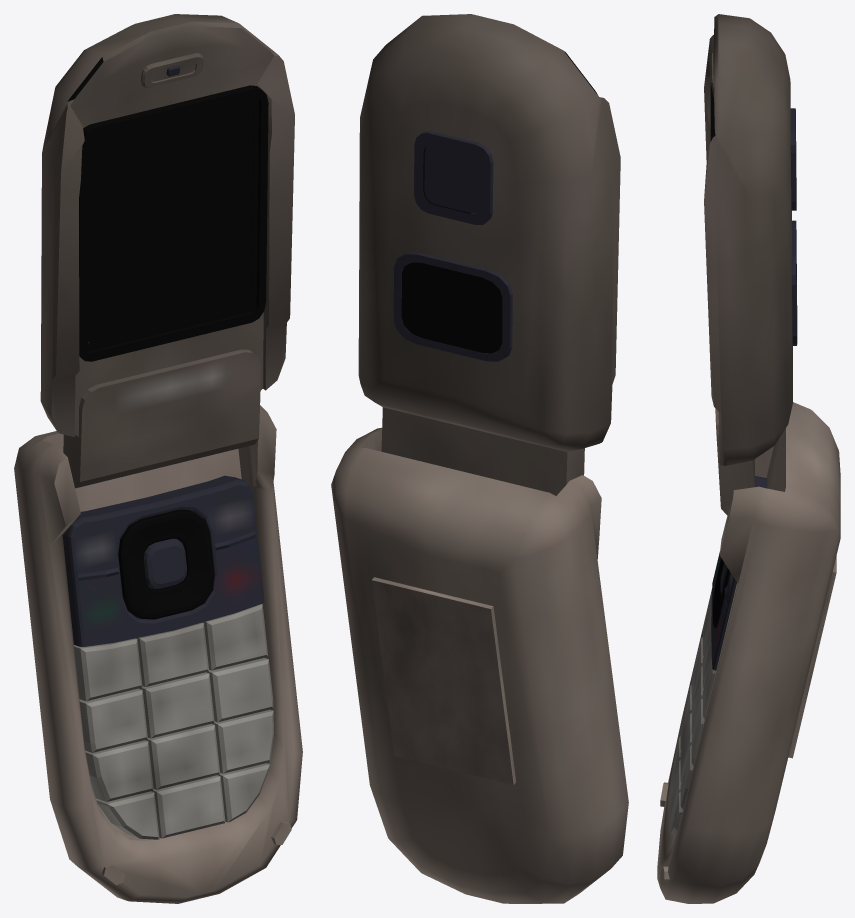
The model's file is Nokia_Baked.fbx.
The picture shows the model from 3 angles, left to right: view 1: azimuth 30°, elevation 25°; view 2: azimuth 150°, elevation 25°; view 3: azimuth 270°, elevation 25°; orthographic projection. The views are drawn at different scales.
Parts seen in each view (by area): view 1: Nokia 1, Nokia 12, Nokia 11, Nokia 10, Nokia 18, Nokia 2, Nokia 13, Nokia 6, Nokia 17, Nokia 8, Nokia 7; view 2: Nokia 1, Nokia 12, Nokia 19, Nokia 18, Nokia 5, Nokia 3, Nokia 9; view 3: Nokia 1, Nokia 12, Nokia 11, Nokia 18, Nokia 2, Nokia 19, Nokia 9, Nokia 3, Nokia 6.
Part boxes in pixels (bbox=[...]): Nokia 1: bbox=[14, 405, 302, 903]; Nokia 12: bbox=[40, 14, 294, 437]; Nokia 11: bbox=[74, 604, 273, 839]; Nokia 10: bbox=[88, 103, 253, 343]; Nokia 18: bbox=[63, 349, 261, 488]; Nokia 2: bbox=[62, 475, 264, 646]; Nokia 13: bbox=[79, 85, 268, 361]; Nokia 6: bbox=[118, 509, 214, 619]; Nokia 17: bbox=[85, 97, 258, 351]; Nokia 8: bbox=[143, 538, 187, 588]; Nokia 7: bbox=[141, 53, 203, 87]; Nokia 1: bbox=[331, 427, 628, 903]; Nokia 12: bbox=[358, 14, 620, 451]; Nokia 19: bbox=[371, 577, 515, 784]; Nokia 18: bbox=[381, 407, 584, 495]; Nokia 5: bbox=[401, 262, 502, 353]; Nokia 3: bbox=[414, 131, 493, 224]; Nokia 9: bbox=[393, 252, 512, 361]; Nokia 1: bbox=[657, 402, 840, 903]; Nokia 12: bbox=[704, 14, 792, 465]; Nokia 11: bbox=[670, 593, 716, 836]; Nokia 18: bbox=[715, 408, 754, 515]; Nokia 2: bbox=[711, 476, 767, 670]; Nokia 19: bbox=[788, 556, 836, 758]; Nokia 9: bbox=[792, 220, 797, 345]; Nokia 3: bbox=[790, 108, 796, 210]; Nokia 6: bbox=[713, 558, 730, 628].
Size of the model in its own units: 21.01 by 73.32 by 14.31.
3 materials, 3 textured.
